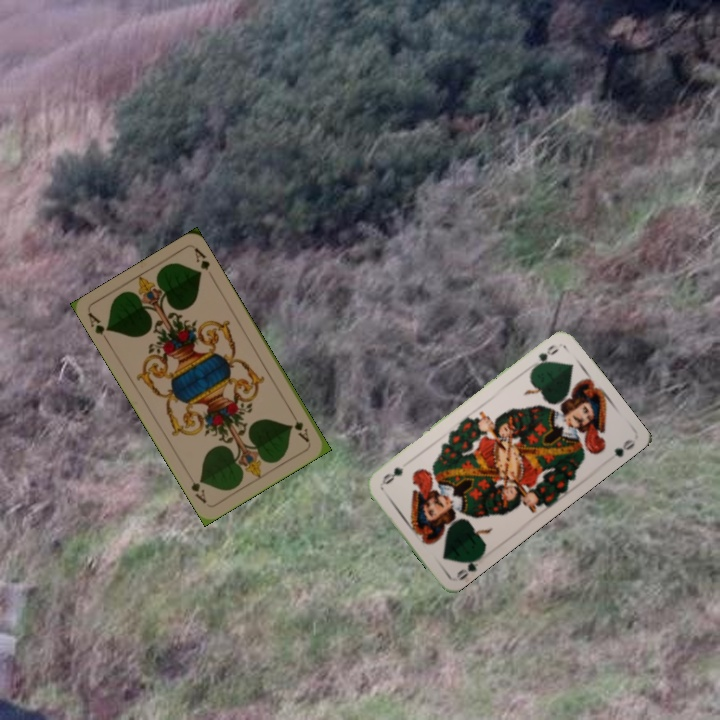GA: (84, 309, 113, 346), (290, 417, 312, 445)
GO: (452, 551, 485, 583), (529, 340, 561, 371)
